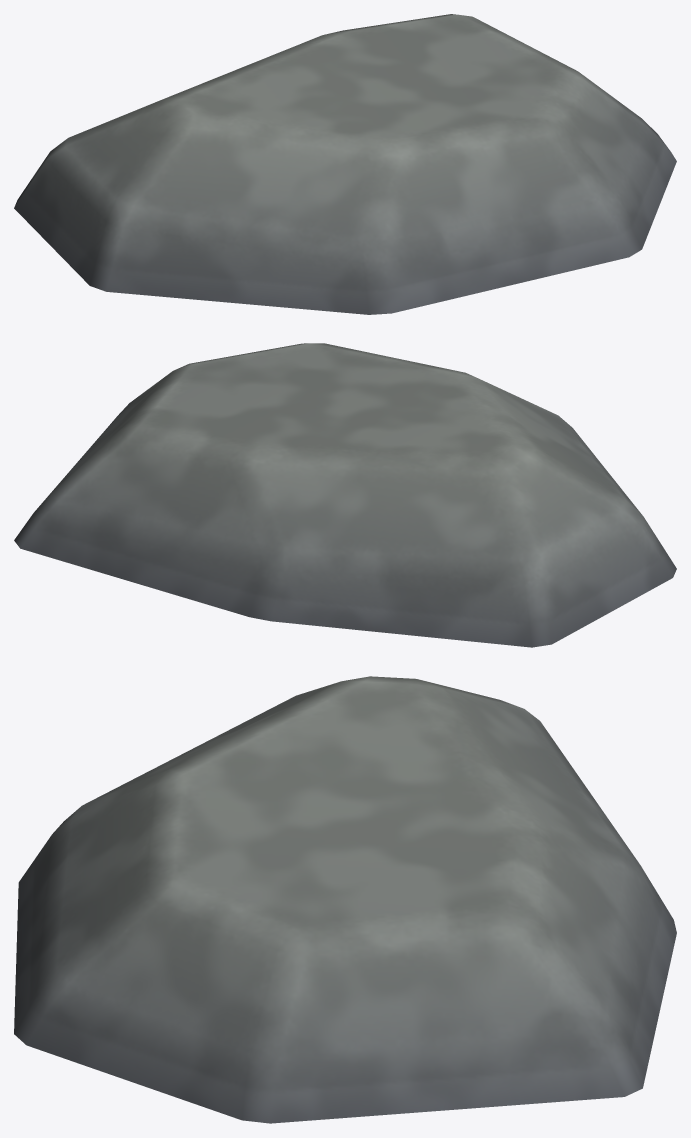
File: pebble_3.glb
The picture shows the model from 3 angles, top to bottom: view 1: azimuth 30°, elevation 25°; view 2: azimuth 150°, elevation 25°; view 3: azimuth 270°, elevation 25°; orthographic projection. The views are drawn at different scales.
Visible parts, largest first — view 1: pebble_3; view 2: pebble_3; view 3: pebble_3.
Boxes of the visible parts, box(x1,y1,x2,y2) form: pebble_3: box(14, 14, 676, 314); pebble_3: box(14, 343, 676, 647); pebble_3: box(14, 676, 676, 1123).
Size of the model in its own units: 0.5 by 0.1 by 0.38.
1 material, 1 textured.
